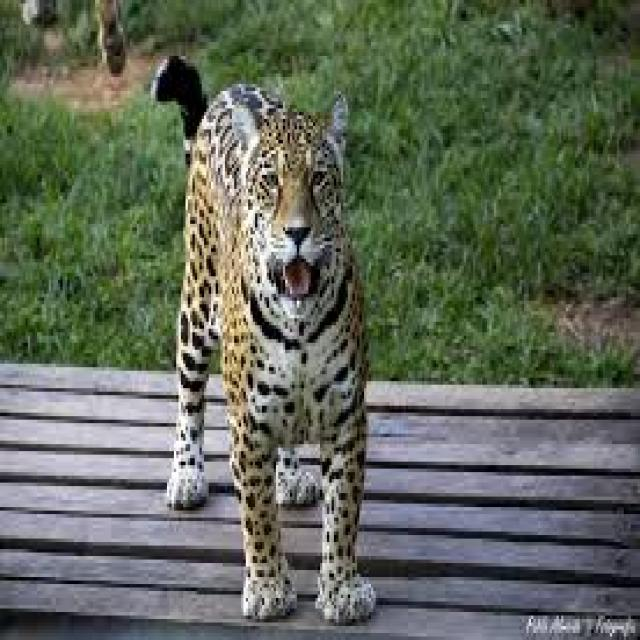Jaguar: (153, 49, 380, 640)
